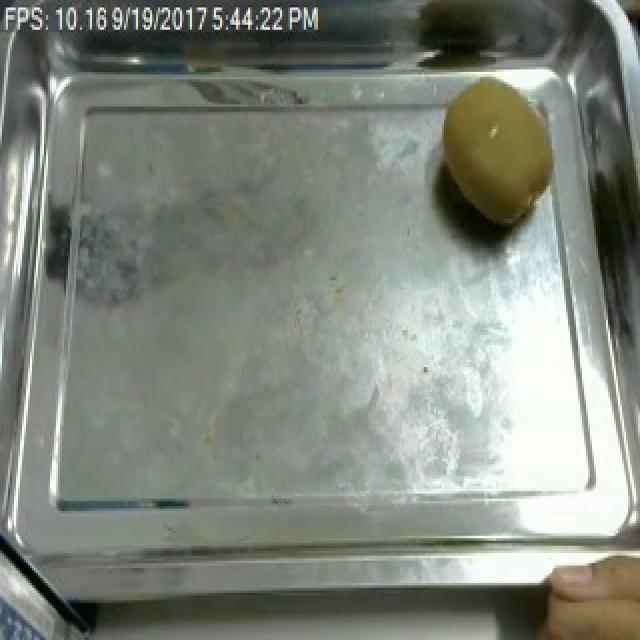Fruit: (424, 64, 572, 240), (514, 543, 640, 640)
